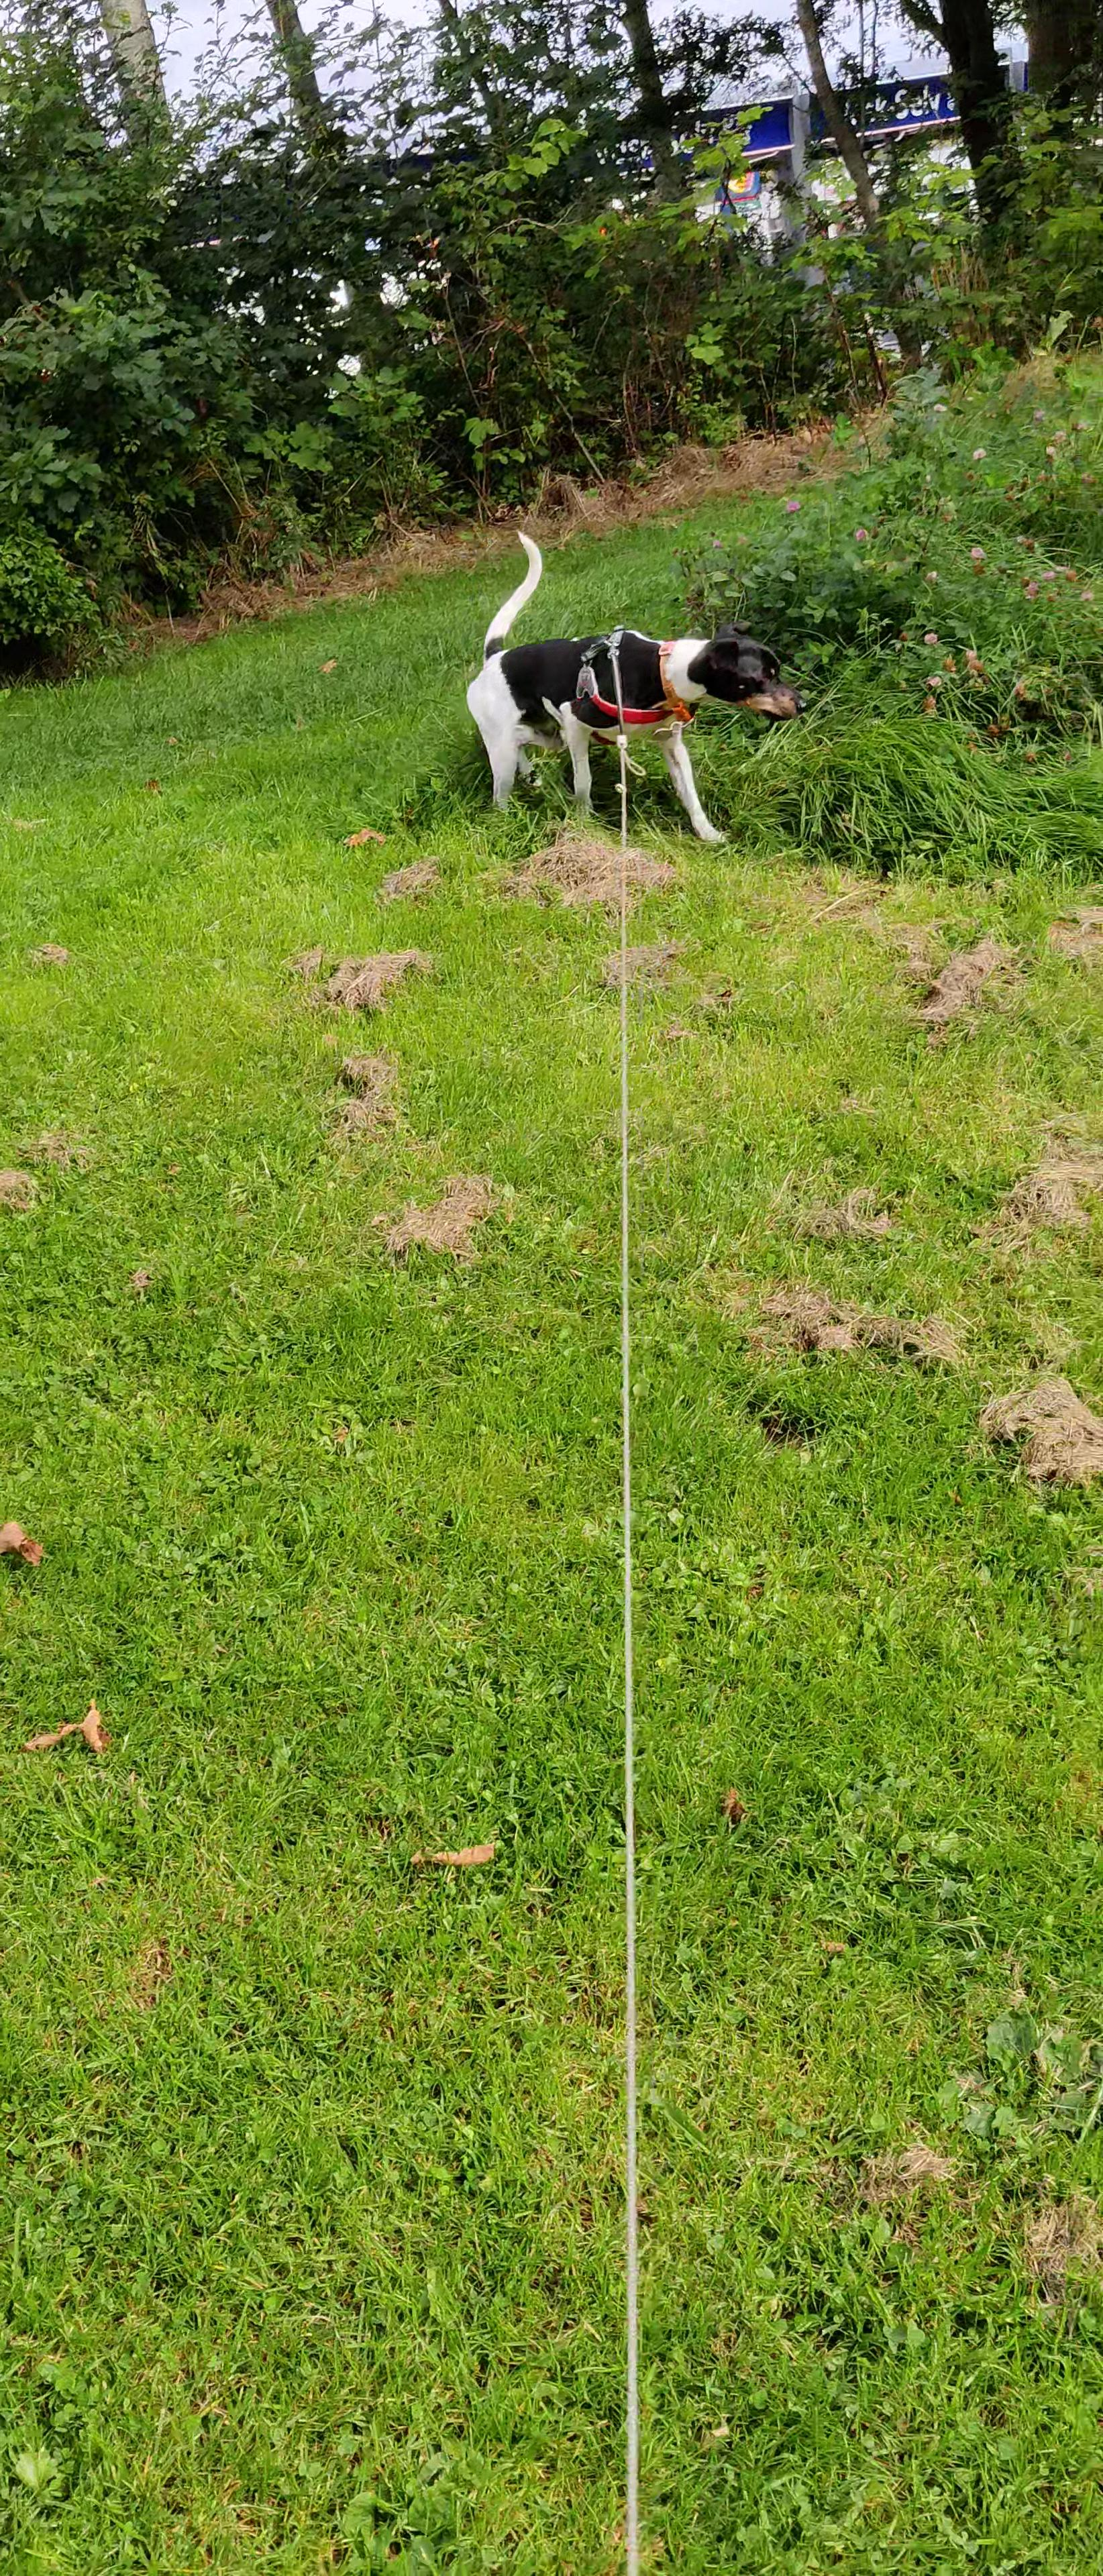Dog: (436, 513, 837, 853)
